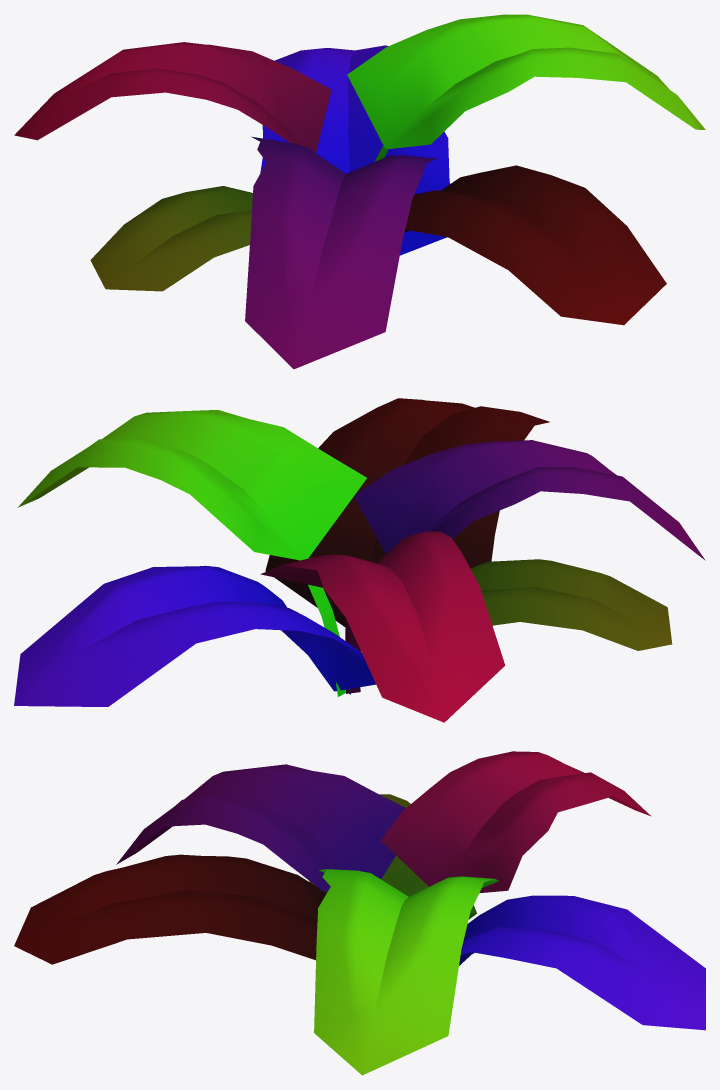
File: Young_palm_var3.fbx
3 views of the same model, one above another, from view 1: azimuth 30°, elevation 25°; view 2: azimuth 150°, elevation 25°; view 3: azimuth 270°, elevation 25° (orthographic). The views are drawn at different scales.
Parts seen in each view (by area): view 1: Palm_var3_LOD0; view 2: Palm_var3_LOD0; view 3: Palm_var3_LOD0.
Part boxes in pixels (x1,y1,x2,y2): Palm_var3_LOD0: [14, 14, 705, 369]; Palm_var3_LOD0: [14, 398, 705, 722]; Palm_var3_LOD0: [14, 751, 705, 1075].
Size of what is drawn, in the model's own units: 3.35 by 1.11 by 3.54.
